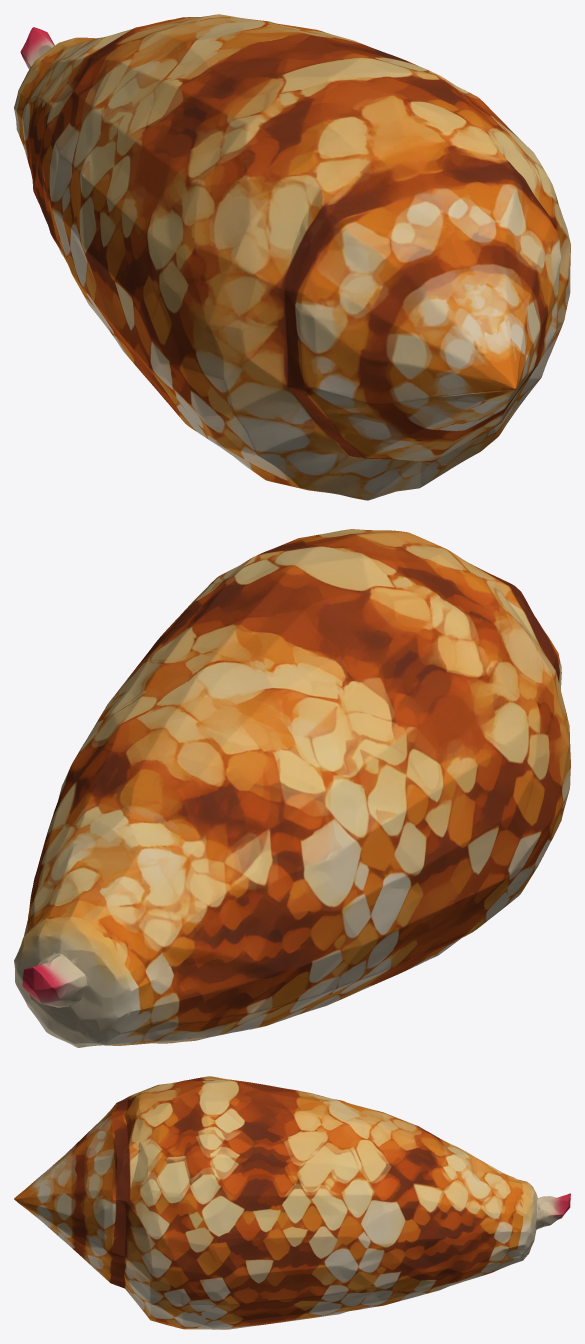
3 renders of one model, top to bottom at view 1: azimuth 30°, elevation 25°; view 2: azimuth 150°, elevation 25°; view 3: azimuth 270°, elevation 25°, orthographic. The views are drawn at different scales.
Parts seen in each view (by area): view 1: tripo_node_1bfc36bc-27a4-4e56-9f59-7ad621b4c851; view 2: tripo_node_1bfc36bc-27a4-4e56-9f59-7ad621b4c851; view 3: tripo_node_1bfc36bc-27a4-4e56-9f59-7ad621b4c851.
Part boxes in pixels (left/top/right/bottom): tripo_node_1bfc36bc-27a4-4e56-9f59-7ad621b4c851: left=14, top=14, right=570, bottom=500; tripo_node_1bfc36bc-27a4-4e56-9f59-7ad621b4c851: left=14, top=529, right=570, bottom=1047; tripo_node_1bfc36bc-27a4-4e56-9f59-7ad621b4c851: left=14, top=1076, right=570, bottom=1329.
Size of the model in its own units: 0.4513 by 0.4571 by 1.
Materials: 1 (1 with a texture image).
